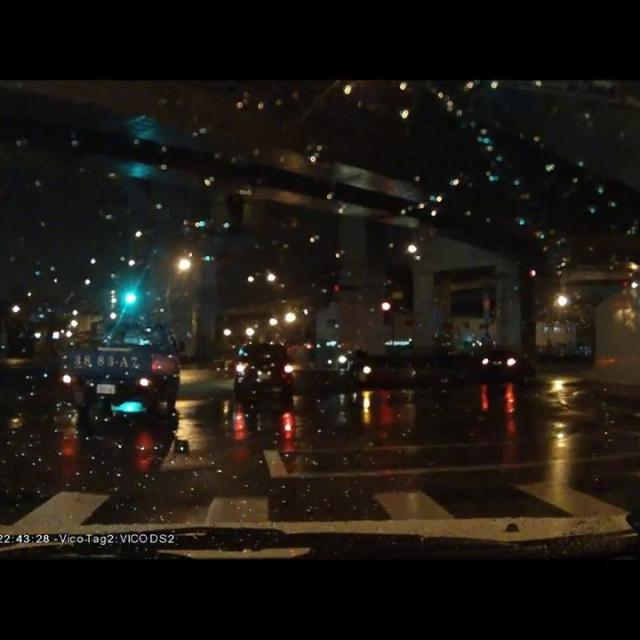Car: (231, 340, 294, 399), (475, 346, 534, 381)
